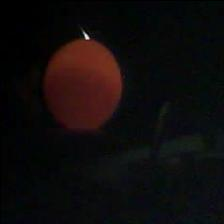infertile: (41, 38, 122, 132)
